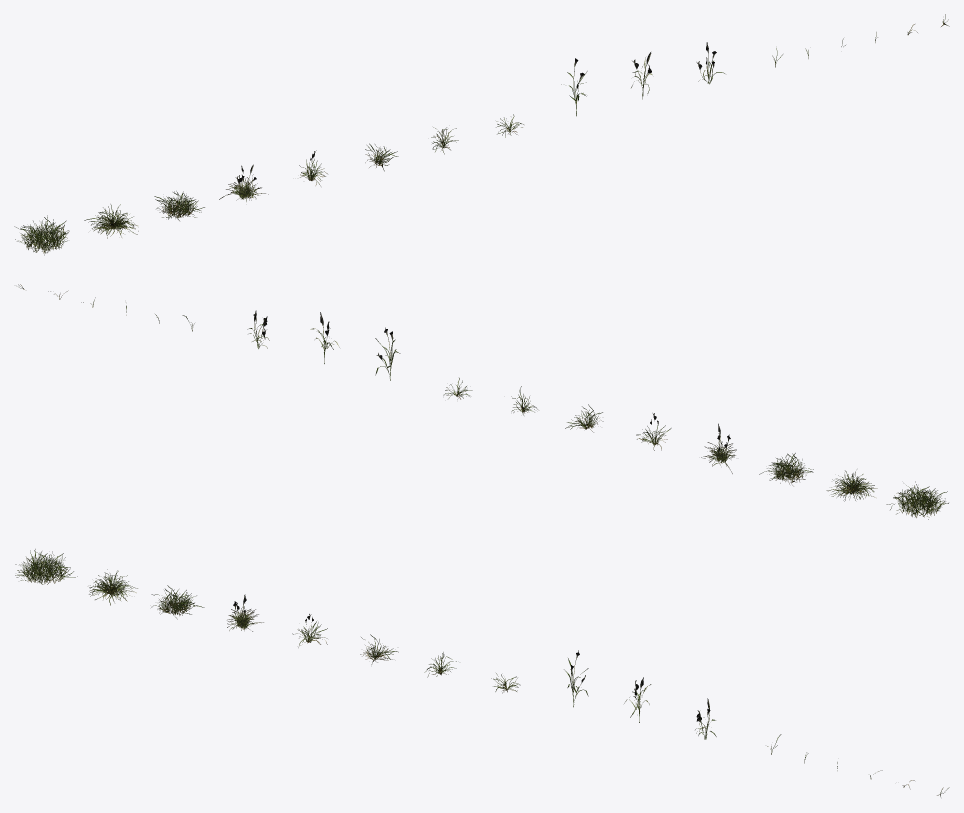
The model's file is grass_medium_01.glb.
3 renders of one model, top to bottom at view 1: azimuth 30°, elevation 25°; view 2: azimuth 150°, elevation 25°; view 3: azimuth 330°, elevation 25°, orthographic.
Visible parts, largest first — view 1: grass_medium_01_large_a_LOD0, grass_medium_01_large_b_LOD0, grass_medium_01_large_c_LOD0, grass_medium_01_mid_a_LOD0; view 2: grass_medium_01_large_a_LOD0, grass_medium_01_large_c_LOD0, grass_medium_01_large_b_LOD0; view 3: grass_medium_01_large_a_LOD0, grass_medium_01_large_b_LOD0, grass_medium_01_large_c_LOD0.
Boxes of the visible parts, box(x1,y1,x2,y2) form: grass_medium_01_large_a_LOD0: box(14, 215, 69, 255); grass_medium_01_large_b_LOD0: box(84, 204, 138, 238); grass_medium_01_large_c_LOD0: box(154, 191, 204, 220); grass_medium_01_mid_a_LOD0: box(219, 164, 268, 201); grass_medium_01_large_a_LOD0: box(886, 481, 948, 519); grass_medium_01_large_c_LOD0: box(759, 453, 813, 486); grass_medium_01_large_b_LOD0: box(826, 470, 877, 501); grass_medium_01_large_a_LOD0: box(15, 549, 77, 584); grass_medium_01_large_b_LOD0: box(89, 569, 137, 605); grass_medium_01_large_c_LOD0: box(151, 585, 204, 619).
Bounding box in the file's own units: 5.6 × 0.3426 × 0.3266.
Materials: 1 (1 with a texture image).
